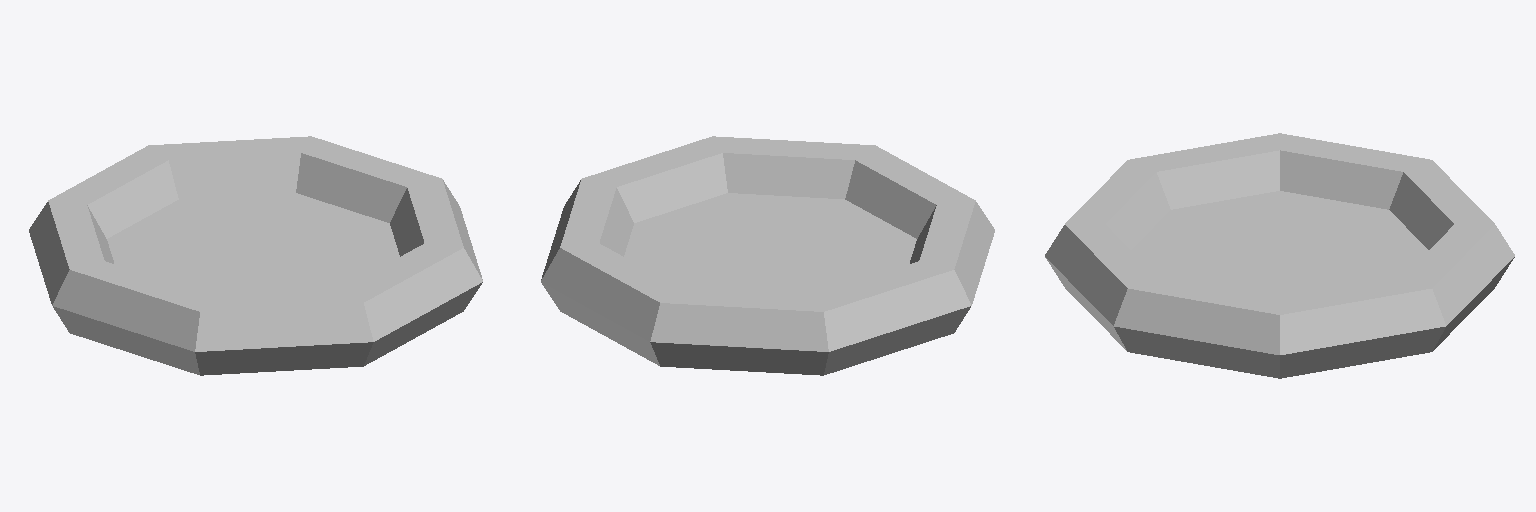
The model's file is agujero.obj.
The picture shows the model from 3 angles: view 1: azimuth 30°, elevation 25°; view 2: azimuth 150°, elevation 25°; view 3: azimuth 270°, elevation 25°; orthographic projection.
Parts seen in each view (by area): view 1: Torus; view 2: Torus; view 3: Torus.
Boxes of the visible parts, x1=… form: Torus: x1=29, y1=136, x2=482, y2=375; Torus: x1=541, y1=136, x2=994, y2=375; Torus: x1=1045, y1=133, x2=1514, y2=378.
Size of the model in its own units: 0.302 by 0.045 by 0.302.